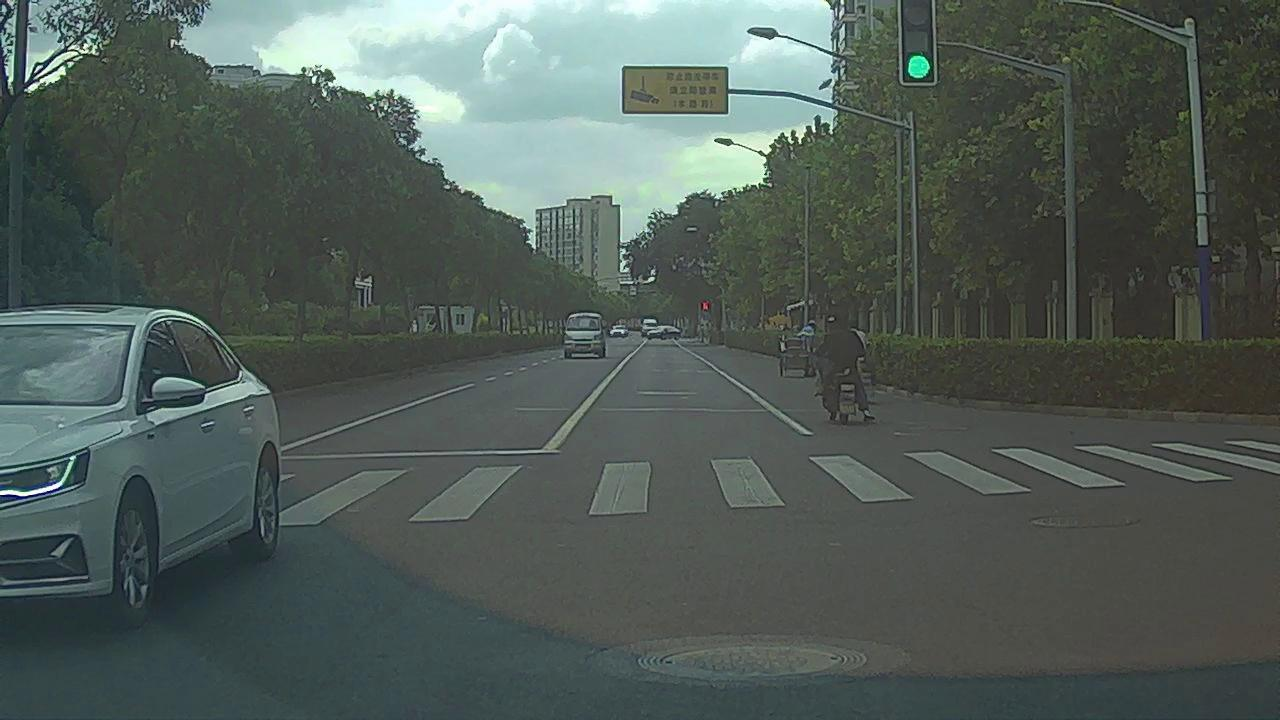traffic_light: (901, 1, 935, 85)
